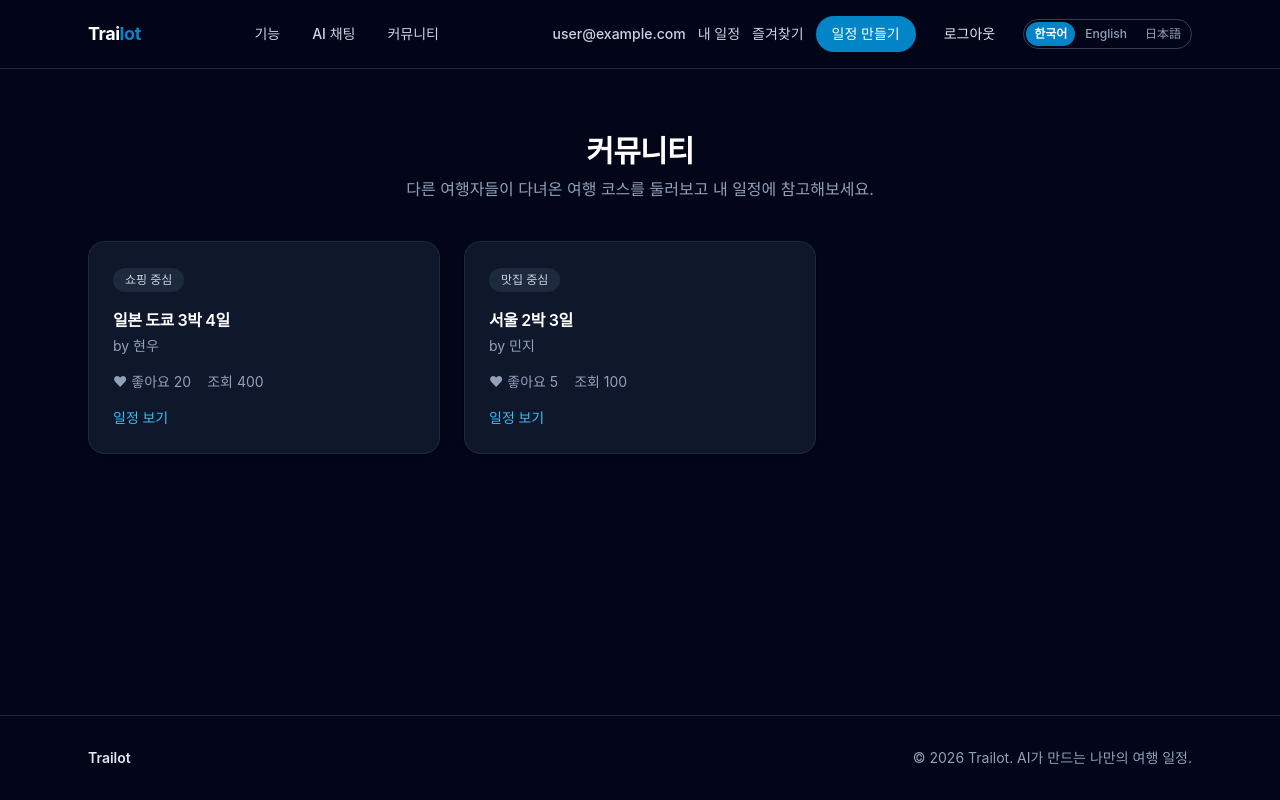
Test: CommunityPage › lets a signed-in user like a trip
Click the button "❤ 좋아요 20" at {"x": 152, "y": 382}, box [113, 372, 191, 392]
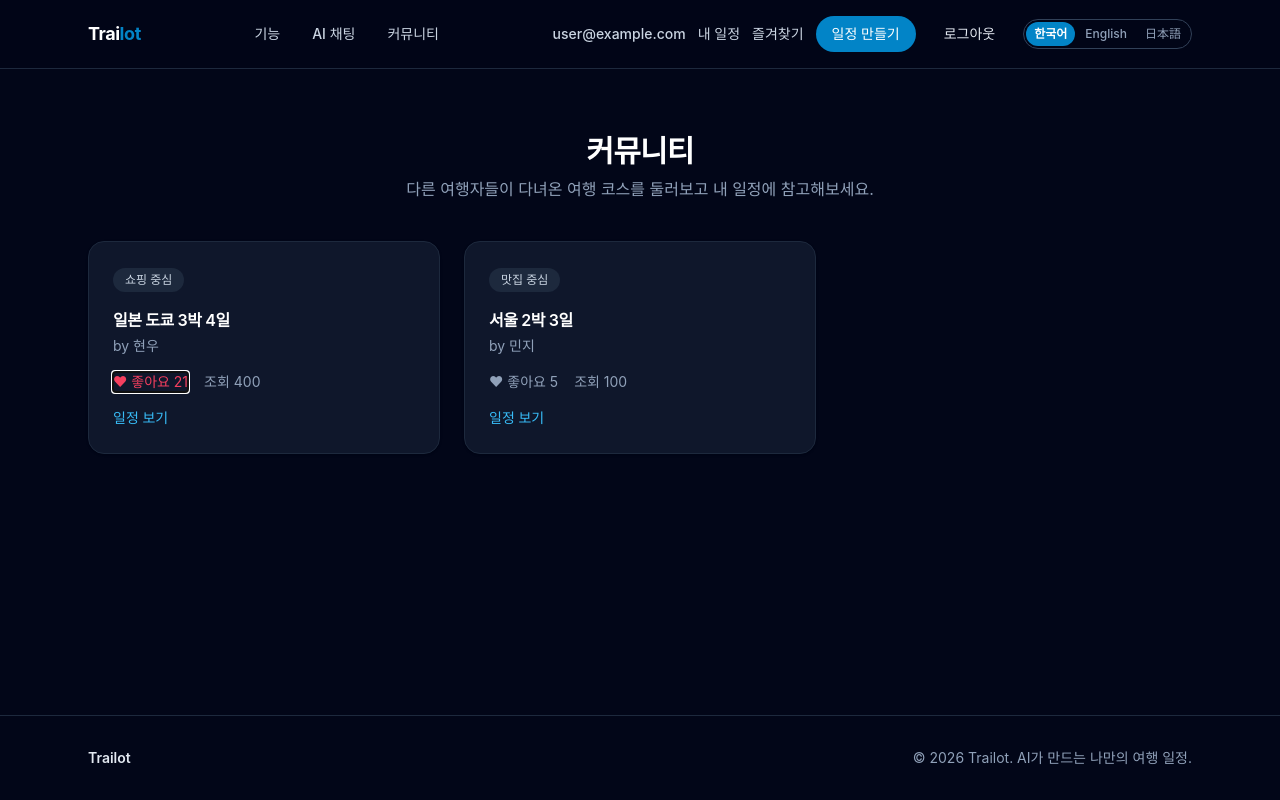
Result: the button "❤ 좋아요 21" is shown at [113, 372, 188, 392]
